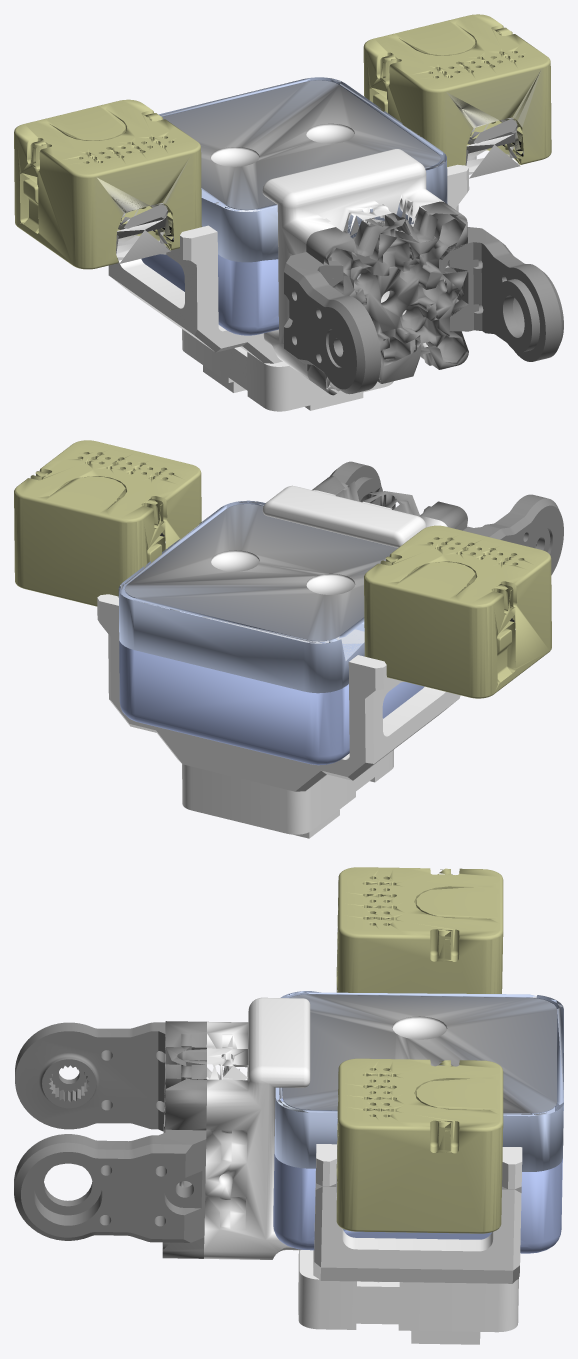
The model's file is head_link1.dae.
3 renders of one model, top to bottom at view 1: azimuth 30°, elevation 25°; view 2: azimuth 150°, elevation 25°; view 3: azimuth 270°, elevation 25°, orthographic. The views are drawn at different scales.
Parts seen in each view (by area): view 1: node10, node4, node16, node19, node12, node15, node24, node14, node20, node13, node17, node3 (+4 smaller); view 2: node10, node4, node19, node17, node14, node20, node13, node12, node24, node16, node22, node15 (+1 smaller); view 3: node4, node10, node12, node19, node15, node24, node14, node13, node20, node17, node16, node22.
Part boxes in pixels (bbox=[...]): node10: bbox=[14, 99, 201, 269]; node4: bbox=[363, 14, 551, 167]; node16: bbox=[306, 201, 468, 395]; node19: bbox=[160, 79, 444, 209]; node12: bbox=[262, 149, 449, 379]; node15: bbox=[433, 227, 563, 361]; node24: bbox=[284, 252, 380, 394]; node14: bbox=[108, 156, 476, 363]; node20: bbox=[158, 77, 447, 262]; node13: bbox=[182, 329, 393, 411]; node17: bbox=[141, 254, 278, 335]; node3: bbox=[446, 69, 541, 178]; node10: bbox=[364, 525, 551, 698]; node4: bbox=[14, 440, 201, 606]; node19: bbox=[120, 501, 397, 642]; node17: bbox=[119, 606, 424, 765]; node14: bbox=[97, 594, 460, 791]; node20: bbox=[118, 500, 364, 693]; node13: bbox=[182, 750, 393, 838]; node12: bbox=[262, 485, 447, 547]; node24: bbox=[463, 494, 563, 575]; node16: bbox=[312, 476, 467, 530]; node22: bbox=[211, 550, 355, 594]; node15: bbox=[329, 461, 382, 501]; node4: bbox=[336, 1058, 503, 1233]; node10: bbox=[336, 867, 503, 993]; node12: bbox=[204, 997, 310, 1259]; node19: bbox=[277, 994, 563, 1115]; node15: bbox=[14, 1129, 206, 1242]; node24: bbox=[15, 1022, 165, 1131]; node14: bbox=[313, 1144, 522, 1283]; node13: bbox=[298, 1250, 518, 1344]; node20: bbox=[274, 991, 563, 1171]; node17: bbox=[273, 1098, 562, 1253]; node16: bbox=[162, 1021, 206, 1258]; node22: bbox=[392, 1016, 447, 1039].
Bounding box in the file's own units: 0.09 × 0.0801 × 0.0514.
